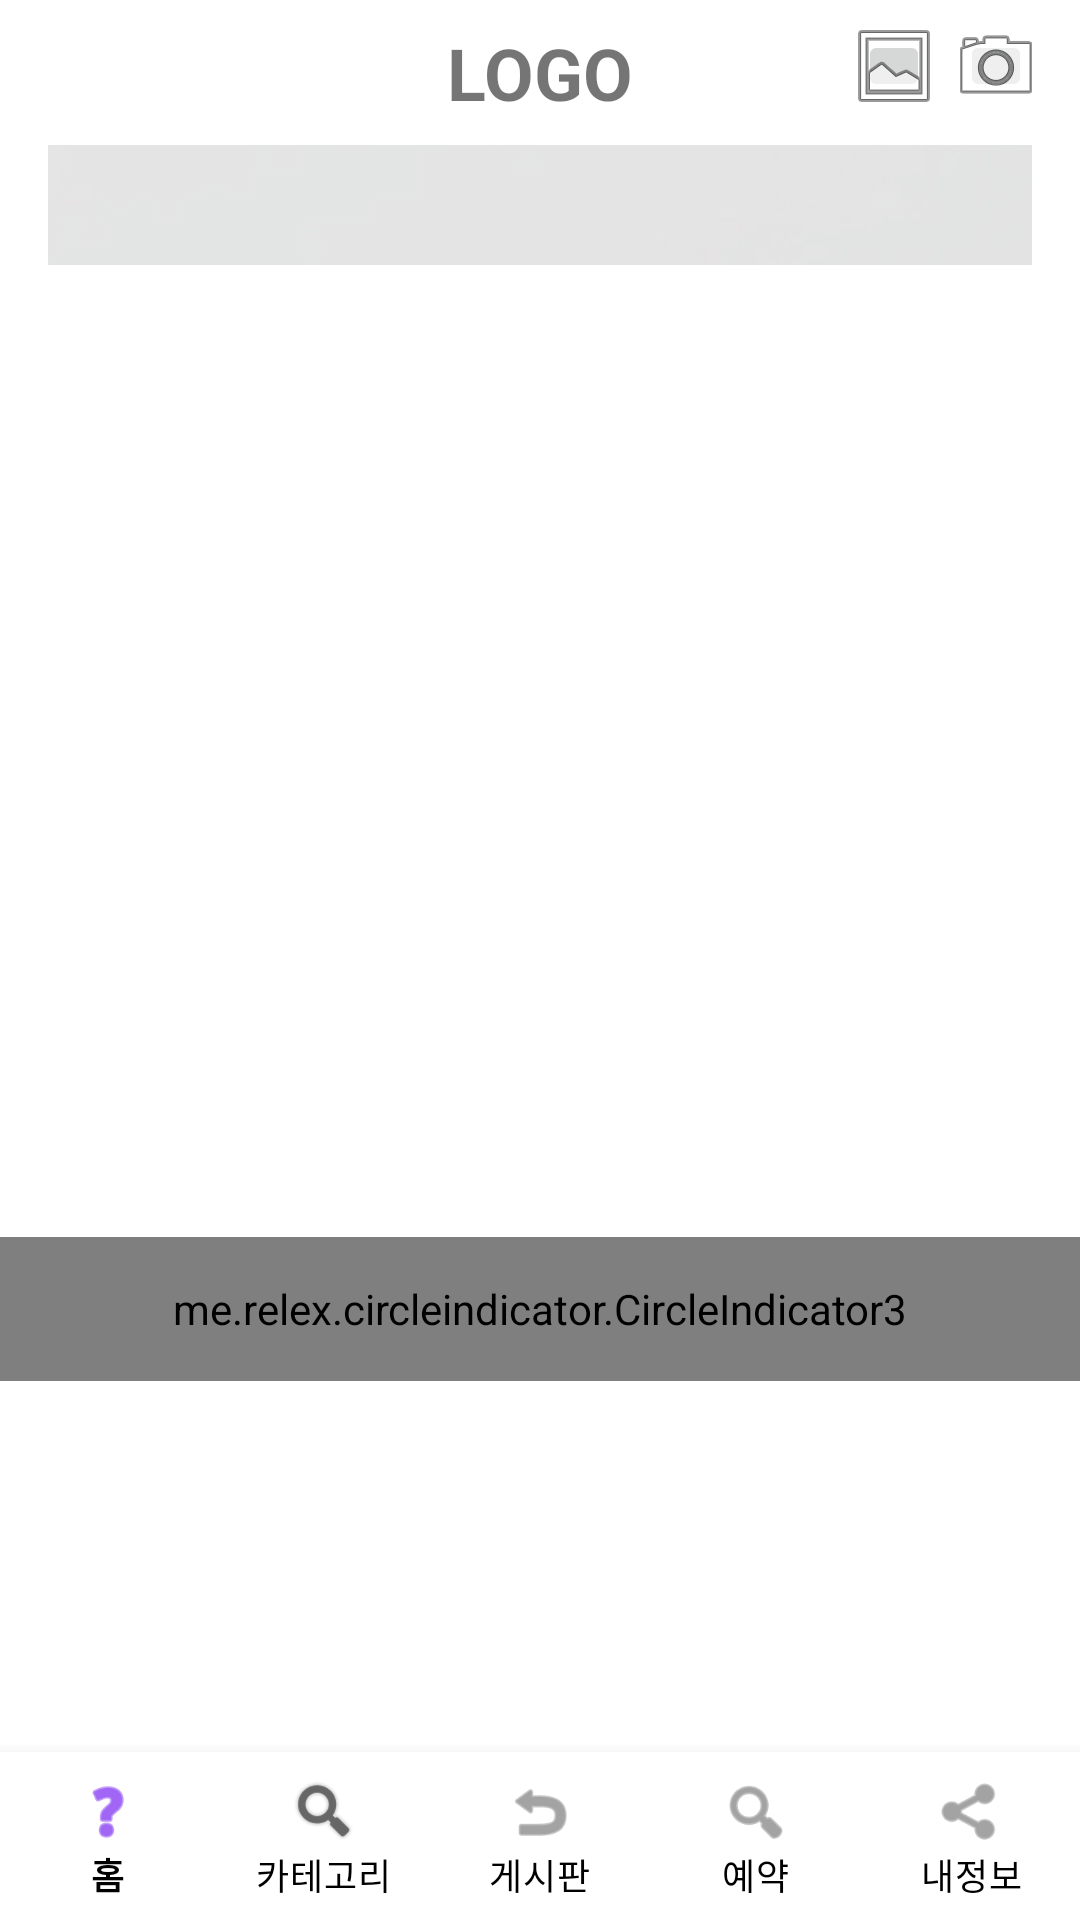

Icon click points for this 1080 × 1920 phone screenshot, format point (x, y):
camera: point (996, 64)
gallery: point (894, 66)
